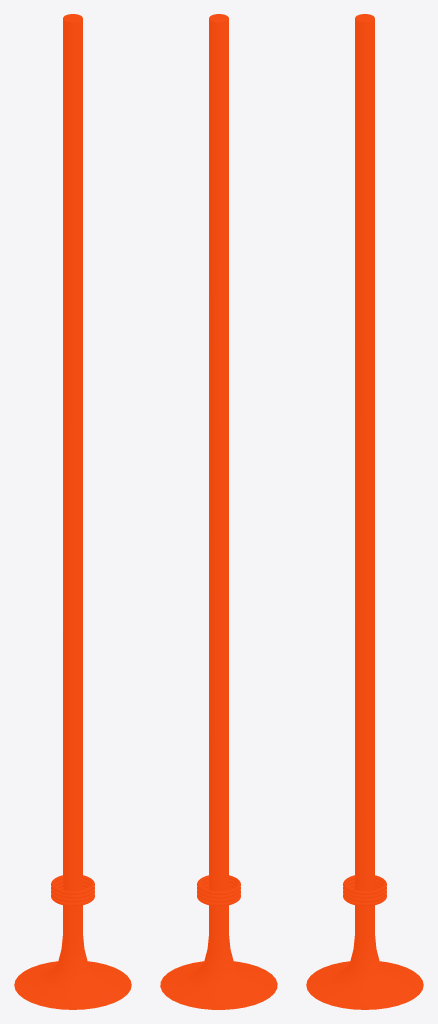
Rendered from obelisk.glb.
3 renders of one model, left to right at view 1: azimuth 90°, elevation 25°; view 2: azimuth 150°, elevation 25°; view 3: azimuth 270°, elevation 25°, orthographic.
Visible parts, largest first — view 1: Cylinder, Torus.001; view 2: Cylinder, Torus.001; view 3: Cylinder, Torus.001.
Part boxes in pixels (x1=…): Cylinder: x1=14, y1=14, x2=131, y2=1009; Torus.001: x1=51, y1=875, x2=94, y2=906; Cylinder: x1=160, y1=14, x2=277, y2=1009; Torus.001: x1=197, y1=875, x2=240, y2=906; Cylinder: x1=306, y1=14, x2=423, y2=1009; Torus.001: x1=343, y1=875, x2=386, y2=906.
Size of the model in its own units: 4.83 by 43.89 by 4.83.
